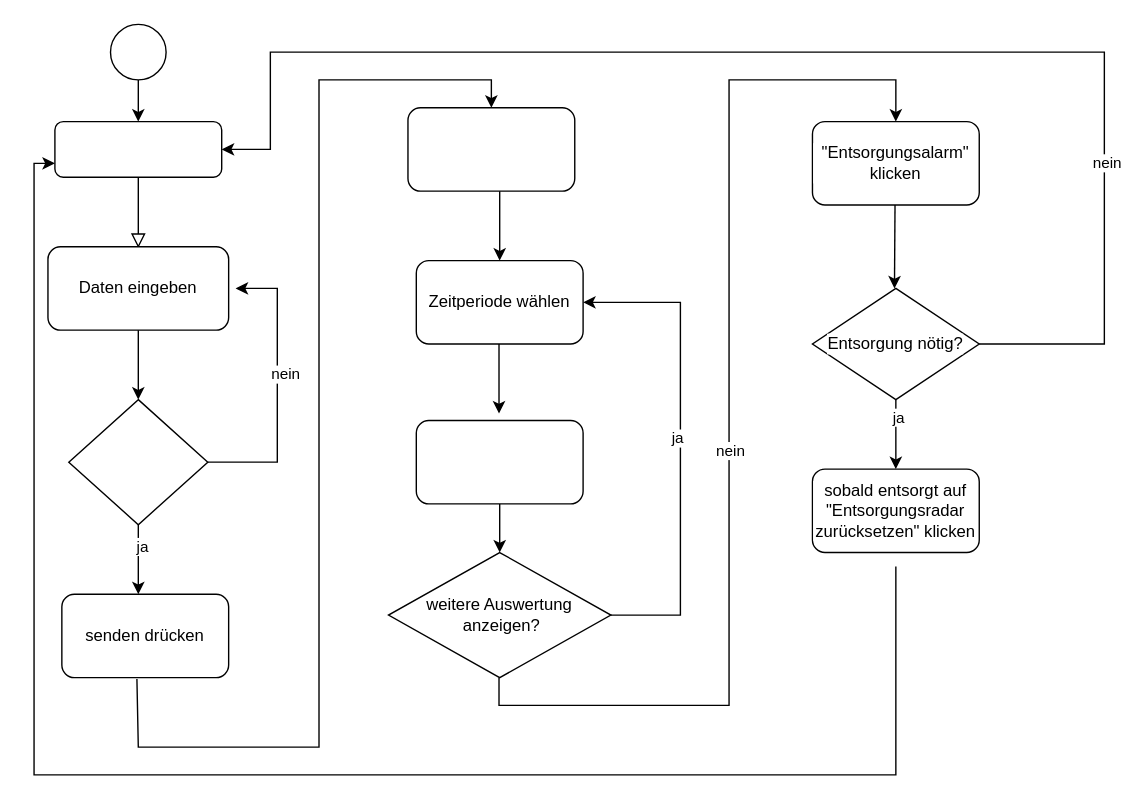
This 1145x810 diagram has some shape labels left out. Each missing label, with the box of its shape:
"Auswertung anzeigen" wählen: (415, 419, 583, 504)
"Auswertung" ancklicken: (407, 106, 575, 191)
"jetzt recyclen" anklicken: (54, 120, 222, 177)
alle Daten eingegeben?: (67, 398, 208, 525)
